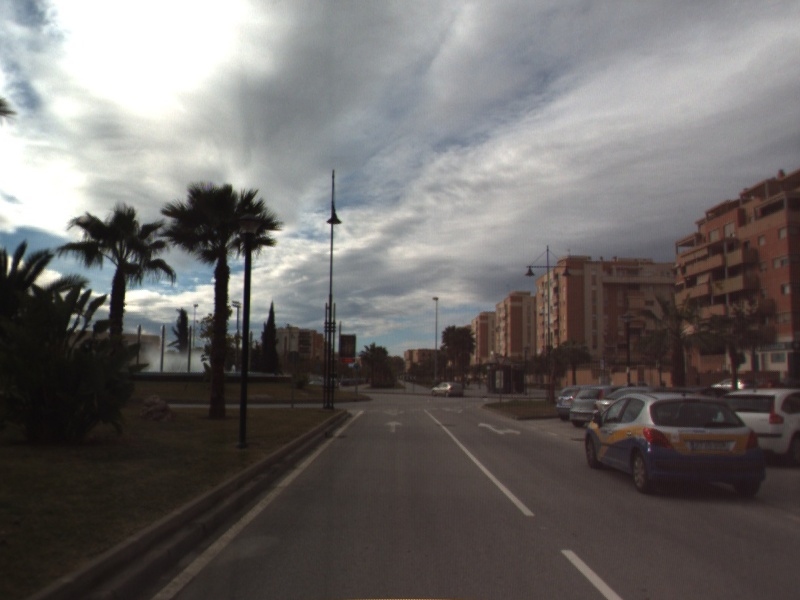STRAIGHT: (383, 419, 404, 434)
STRAIGHT_RIGHT: (476, 421, 522, 437)
